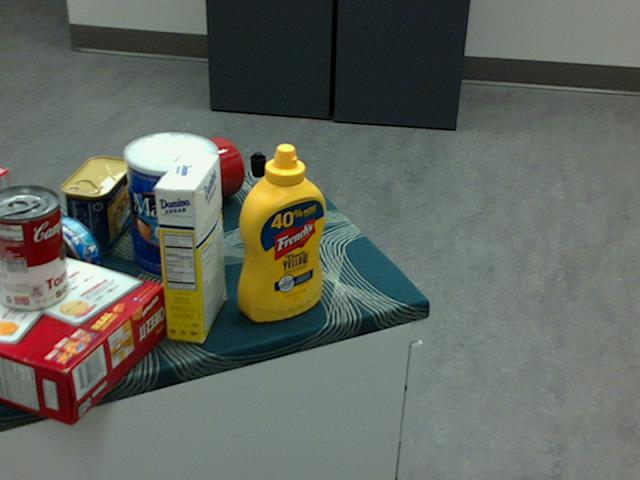cracker_box: (0, 235, 166, 425)
gelatin_box: (0, 168, 14, 232)
large_marker: (251, 151, 267, 244)
master_chef_can: (121, 131, 218, 280)
mug: (154, 136, 243, 214)
mustard_bottle: (237, 141, 327, 321)
potted_meat_can: (60, 154, 132, 255)
sugar_box: (152, 151, 227, 342)
tomato_soup_can: (0, 185, 67, 311)
tuna_fish_can: (23, 216, 102, 299)
